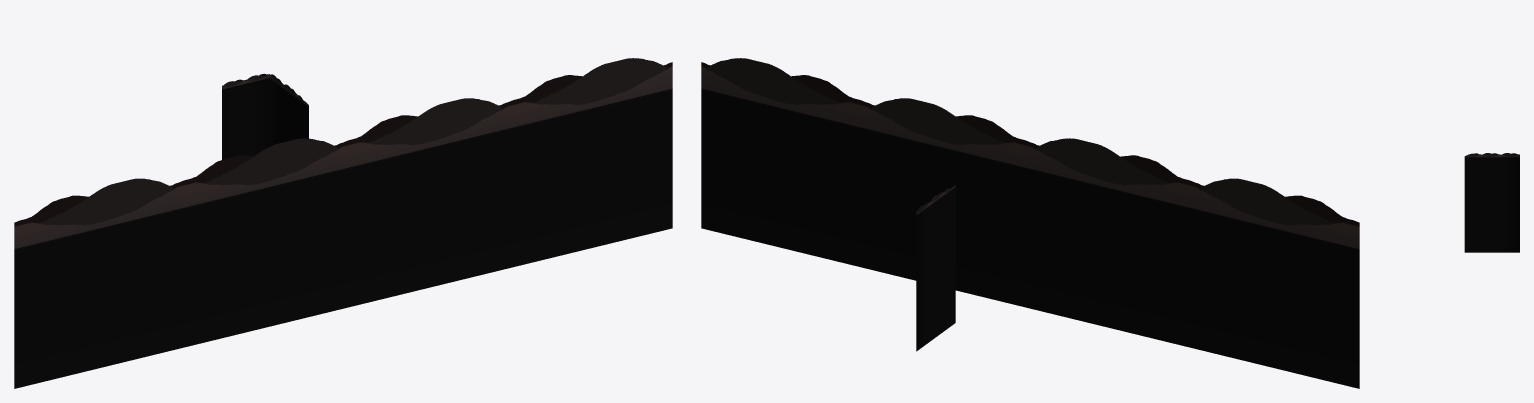
Rendered from Castle Hills BG.fbx.
3 renders of one model, left to right at view 1: azimuth 30°, elevation 25°; view 2: azimuth 150°, elevation 25°; view 3: azimuth 270°, elevation 25°, orthographic. The views are drawn at different scales.
Visible parts, largest first — view 1: Castle Hills; view 2: Castle Hills; view 3: Castle Hills.
Boxes of the visible parts, bbox=[...] form: Castle Hills: bbox=[14, 58, 672, 388]; Castle Hills: bbox=[701, 58, 1359, 388]; Castle Hills: bbox=[1464, 153, 1519, 252].
Bounding box in the file's own units: 1355 × 422 × 335.
